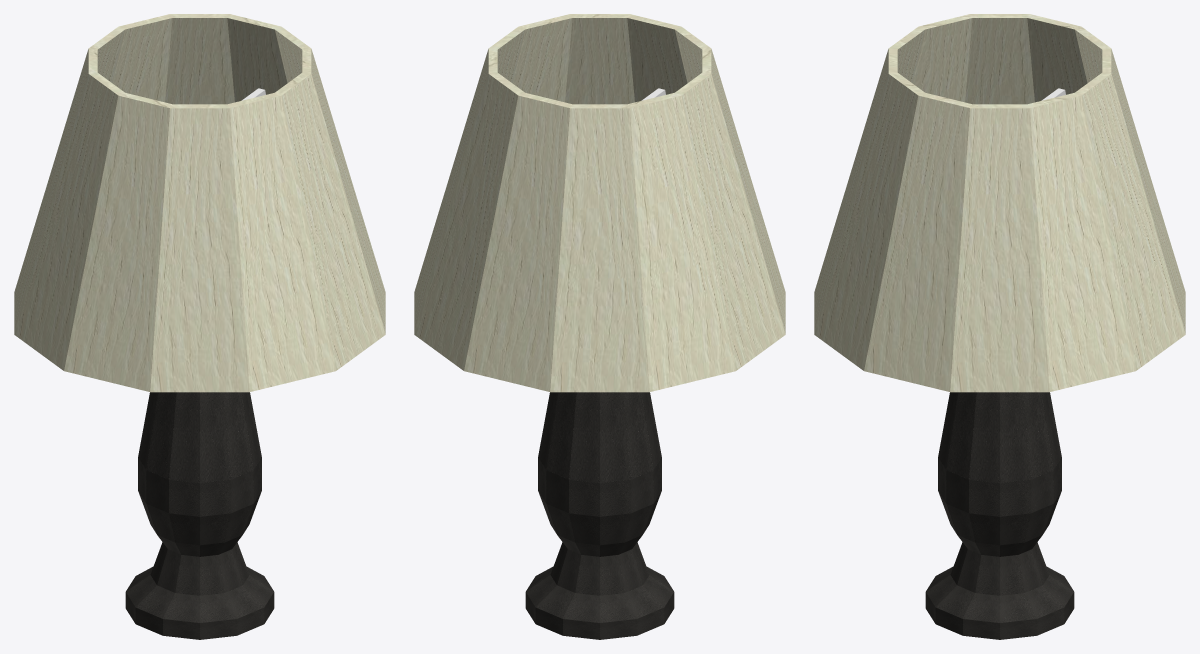
Rendered from lamp.glb.
3 views of the same model, side by side, from view 1: azimuth 30°, elevation 25°; view 2: azimuth 150°, elevation 25°; view 3: azimuth 270°, elevation 25° (orthographic).
Visible parts, largest first — view 1: object4, object5.001; view 2: object4, object5.001; view 3: object4, object5.001.
Part boxes in pixels (x1,y1,x2,y2): object4: [14, 14, 385, 392]; object5.001: [125, 392, 274, 639]; object4: [414, 14, 785, 392]; object5.001: [525, 392, 674, 639]; object4: [814, 14, 1185, 392]; object5.001: [925, 392, 1074, 639].
Size of the model in its own units: 0.5 by 0.8128 by 0.5.
Materials: 5 (4 with a texture image).
